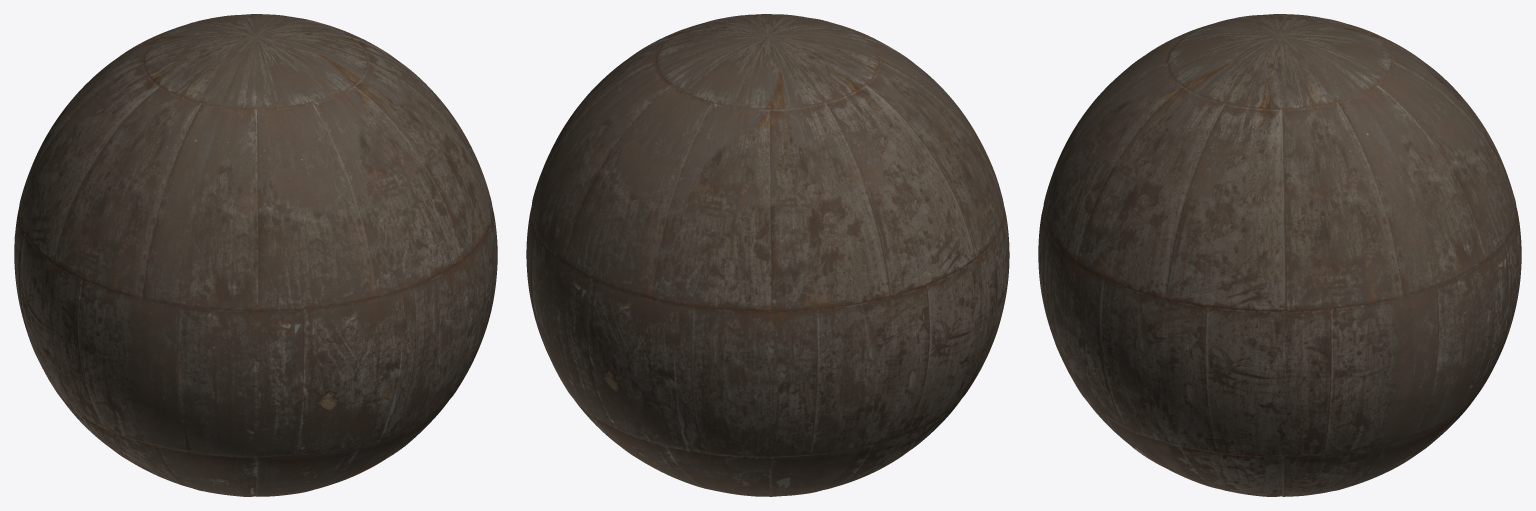
File: metal_plate_02_2k.gltf
The picture shows the model from 3 angles, left to right: view 1: azimuth 30°, elevation 25°; view 2: azimuth 150°, elevation 25°; view 3: azimuth 270°, elevation 25°; orthographic projection.
Visible parts, largest first — view 1: sphere_gltf; view 2: sphere_gltf; view 3: sphere_gltf.
Part boxes in pixels (box(x1,y1,x2,y2)): sphere_gltf: box(14, 14, 497, 496); sphere_gltf: box(526, 14, 1009, 496); sphere_gltf: box(1038, 14, 1521, 496).
Size of the model in its own units: 2 by 2 by 2.
Materials: 1 (1 with a texture image).
